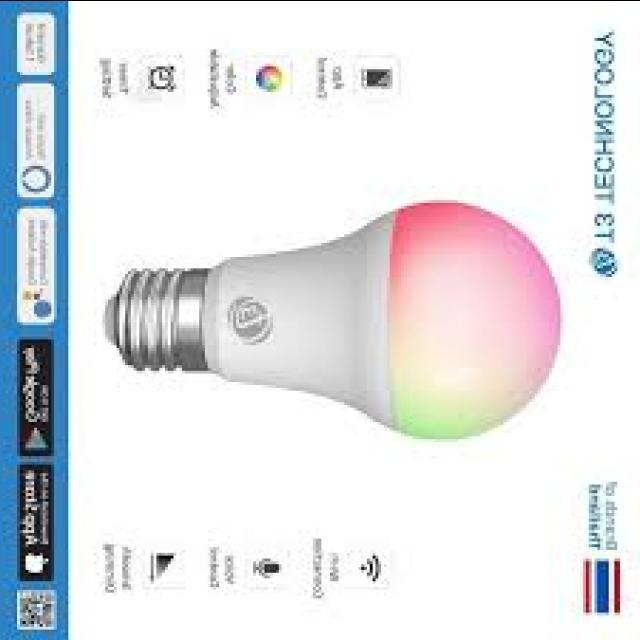light_bulb: (98, 188, 578, 460)
